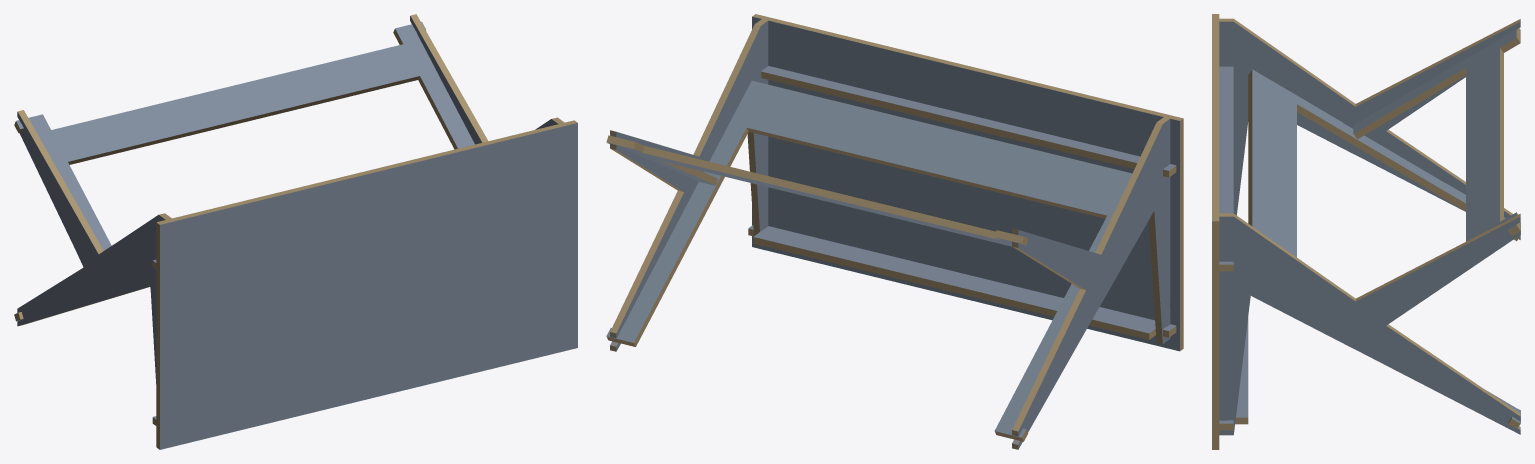
The model's file is NODO_ESCRITORIO_ESCULTORICO_CUARZO_FINAL_SIN_ENCASTRES_REAL_V6.glb.
3 renders of one model, left to right at view 1: azimuth 30°, elevation 25°; view 2: azimuth 150°, elevation 25°; view 3: azimuth 270°, elevation 25°, orthographic. The views are drawn at different scales.
Parts seen in each view (by area): view 1: G_Tapa_Superior_CARAS_COLOR_REAL, B_Escuadra_Trasera_PIEL_LISA_1, D_Lateral_Izq_PIEL_LISA_-1, G_Tapa_Superior_CANTO_MDF, B_Escuadra_Trasera_canto, D_Lateral_Izq_cuerpo, D_Lateral_Izq_canto, C_Lateral_Der_canto, C_Lateral_Der_PIEL_LISA_-1; view 2: G_Tapa_Superior_CARAS_COLOR_REAL, A_Escuadra_Delantera_PIEL_LISA_1, D_Lateral_Izq_PIEL_LISA_-1, F_Traba_Delantera_PIEL_LISA_1, A_Escuadra_Delantera_cuerpo, C_Lateral_Der_PIEL_LISA_-1, B_Escuadra_Trasera_canto, D_Lateral_Izq_canto, C_Lateral_Der_canto, E_Traba_Trasera_PIEL_LISA_1, E_Traba_Trasera_canto, F_Traba_Delantera_canto (+5 smaller); view 3: C_Lateral_Der_PIEL_LISA_1, D_Lateral_Izq_PIEL_LISA_1, A_Escuadra_Delantera_PIEL_LISA_1, B_Escuadra_Trasera_PIEL_LISA_1, G_Tapa_Superior_CANTO_MDF, C_Lateral_Der_cuerpo, A_Escuadra_Delantera_canto, E_Traba_Trasera_PIEL_LISA_1, D_Lateral_Izq_cuerpo, B_Escuadra_Trasera_canto, C_Lateral_Der_canto, A_Escuadra_Delantera_cuerpo (+3 smaller).
Part boxes in pixels (x1,y1,x2,y2): G_Tapa_Superior_CARAS_COLOR_REAL: (160, 123, 577, 449); B_Escuadra_Trasera_PIEL_LISA_1: (16, 22, 474, 250); D_Lateral_Izq_PIEL_LISA_-1: (17, 112, 164, 330); G_Tapa_Superior_CANTO_MDF: (156, 120, 577, 449); B_Escuadra_Trasera_canto: (14, 29, 457, 164); D_Lateral_Izq_cuerpo: (17, 112, 165, 383); D_Lateral_Izq_canto: (18, 110, 171, 325); C_Lateral_Der_canto: (410, 14, 564, 142); C_Lateral_Der_PIEL_LISA_-1: (410, 16, 557, 144); G_Tapa_Superior_CARAS_COLOR_REAL: (752, 16, 1179, 351); A_Escuadra_Delantera_PIEL_LISA_1: (606, 80, 1132, 437); D_Lateral_Izq_PIEL_LISA_-1: (1018, 119, 1170, 448); F_Traba_Delantera_PIEL_LISA_1: (749, 225, 1175, 332); A_Escuadra_Delantera_cuerpo: (607, 127, 1106, 437); C_Lateral_Der_PIEL_LISA_-1: (616, 21, 768, 350); B_Escuadra_Trasera_canto: (606, 135, 1027, 245); D_Lateral_Izq_canto: (1012, 117, 1169, 449); C_Lateral_Der_canto: (610, 19, 767, 351); E_Traba_Trasera_PIEL_LISA_1: (761, 66, 1175, 170); E_Traba_Trasera_canto: (761, 71, 1176, 177); F_Traba_Delantera_canto: (748, 228, 1176, 339); C_Lateral_Der_PIEL_LISA_1: (1219, 216, 1520, 435); D_Lateral_Izq_PIEL_LISA_1: (1219, 22, 1520, 239); A_Escuadra_Delantera_PIEL_LISA_1: (1252, 69, 1520, 423); B_Escuadra_Trasera_PIEL_LISA_1: (1353, 29, 1516, 241); G_Tapa_Superior_CANTO_MDF: (1212, 14, 1219, 449); C_Lateral_Der_cuerpo: (1219, 217, 1520, 434); A_Escuadra_Delantera_canto: (1248, 70, 1520, 428); E_Traba_Trasera_PIEL_LISA_1: (1219, 66, 1233, 264); D_Lateral_Izq_cuerpo: (1219, 21, 1520, 239); B_Escuadra_Trasera_canto: (1354, 28, 1520, 235); C_Lateral_Der_canto: (1219, 213, 1520, 429); A_Escuadra_Delantera_cuerpo: (1252, 70, 1520, 423).
Size of what is drawn, in the model's own units: 1.22 by 0.628 by 0.7686.
